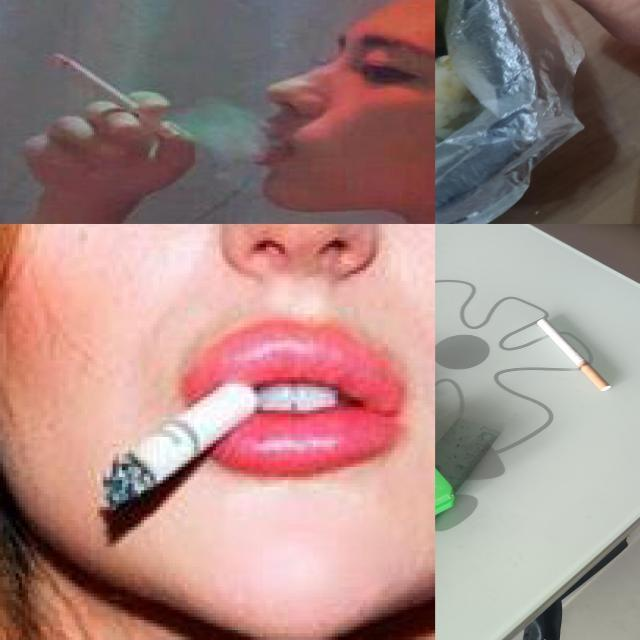smoke: (102, 383, 258, 507), (45, 53, 180, 139), (536, 318, 614, 393)
